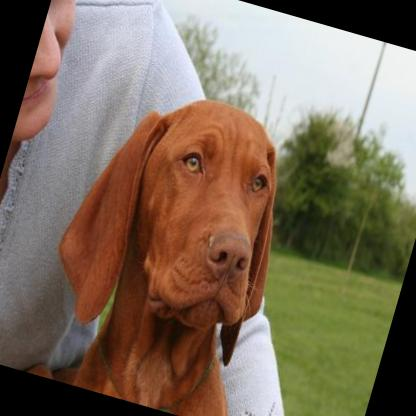vizsla: (22, 67, 312, 416)
